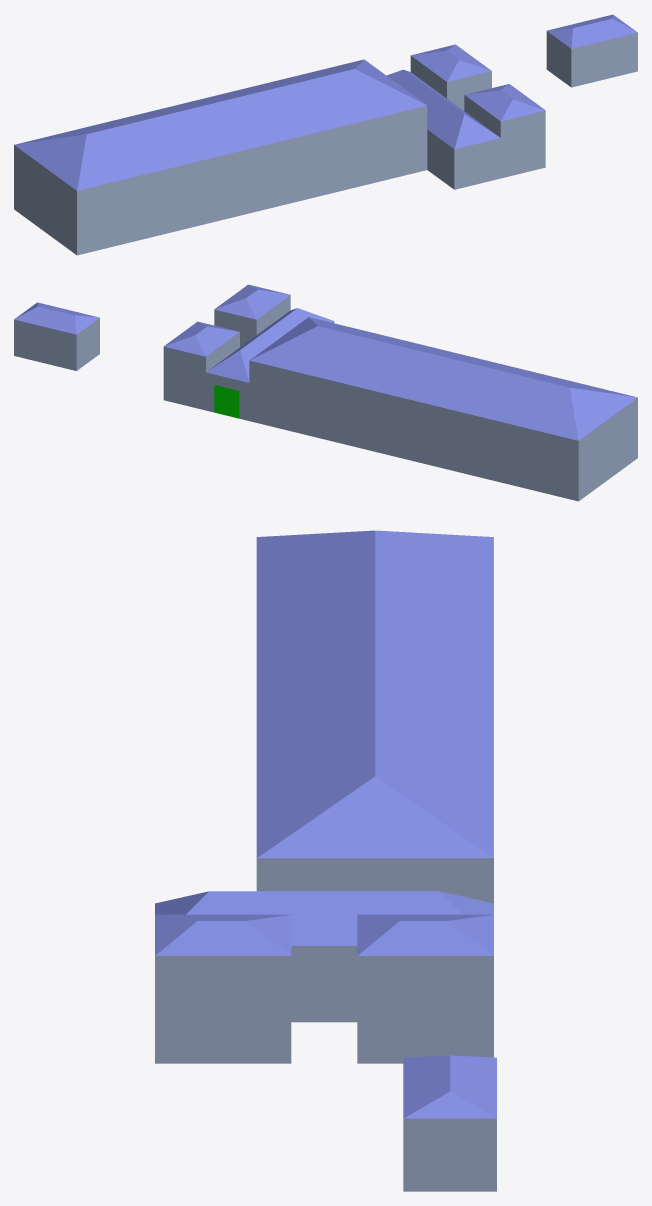
Rendered from Raw_Water_Pump_House.glb.
The picture shows the model from 3 angles, top to bottom: view 1: azimuth 30°, elevation 25°; view 2: azimuth 150°, elevation 25°; view 3: azimuth 270°, elevation 25°; orthographic projection. The views are drawn at different scales.
Parts seen in each view (by area): view 1: Floor1, Roof; view 2: Floor1, Roof; view 3: Roof, Floor1.
Part boxes in pixels (<box>): Floor1: <box>14,31,637,255</box>; Roof: <box>14,14,637,190</box>; Floor1: <box>14,295,637,501</box>; Roof: <box>14,284,637,440</box>; Roof: <box>155,530,496,1118</box>; Floor1: <box>155,537,496,1191</box>.
Size of the model in its own units: 68.11 by 10.36 by 17.9.
